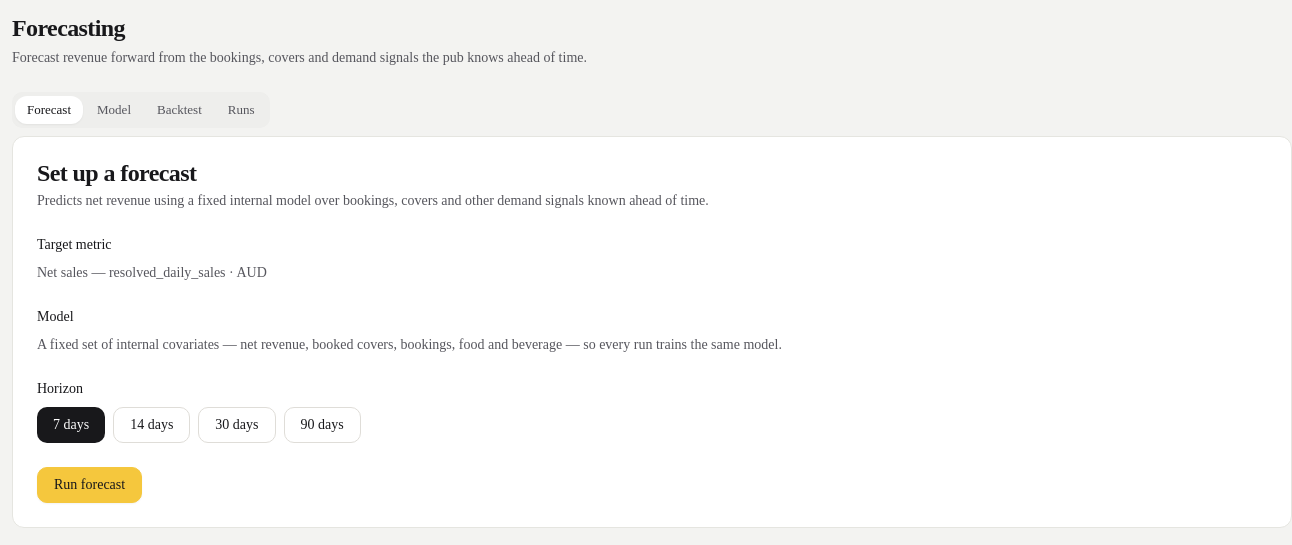
Test: shows a retryable error when run history cannot load
Expected: the text "Net sales — resolved_daily_sales · AUD" is shown, [37,265,267,280]
Step 1. Press the mouse on the tab "Runs" → (241, 110), box [216,96,266,124]
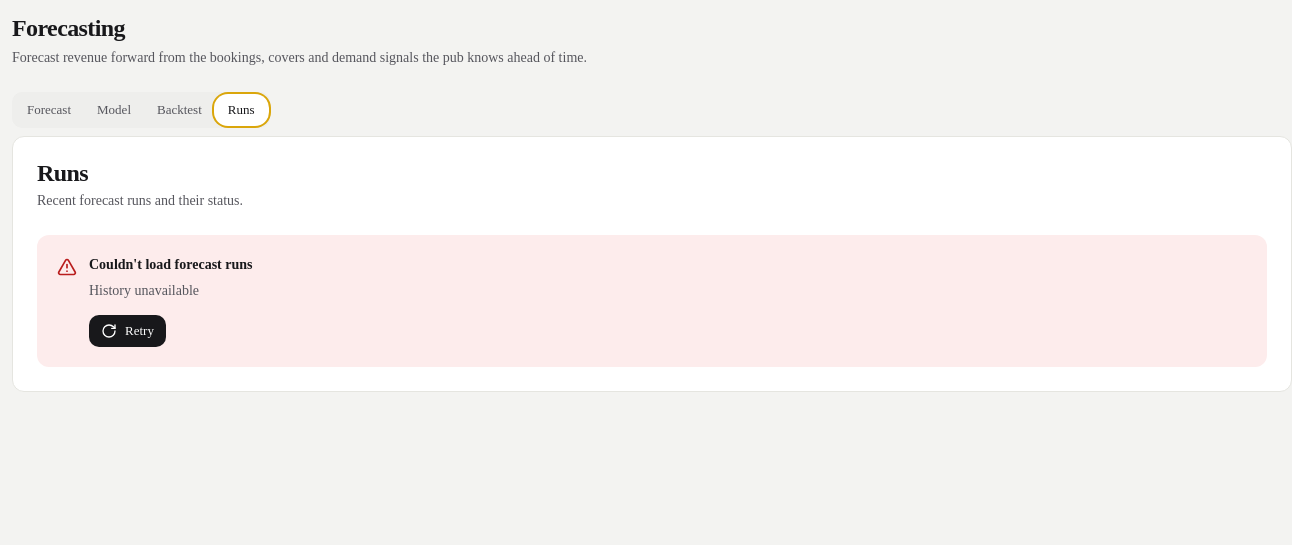
Expected: the text "Couldn't load forecast runs" is shown, [89,255,252,275]
